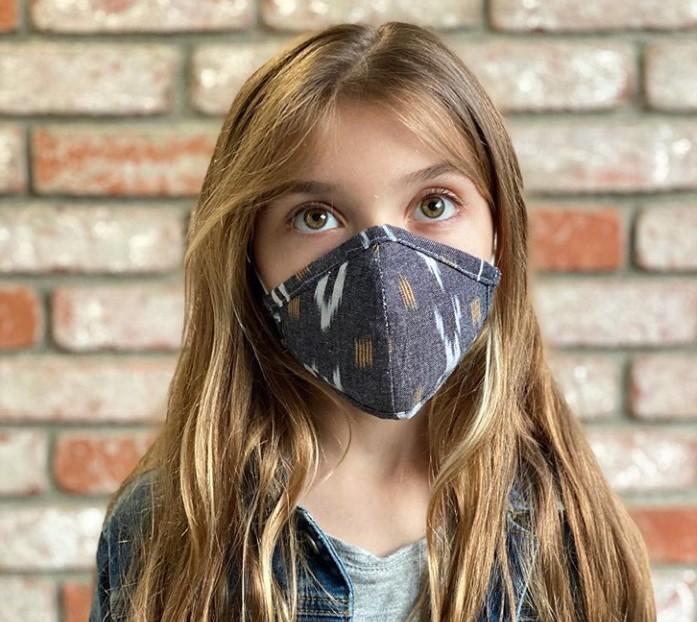face_with_mask: (222, 87, 511, 419)
